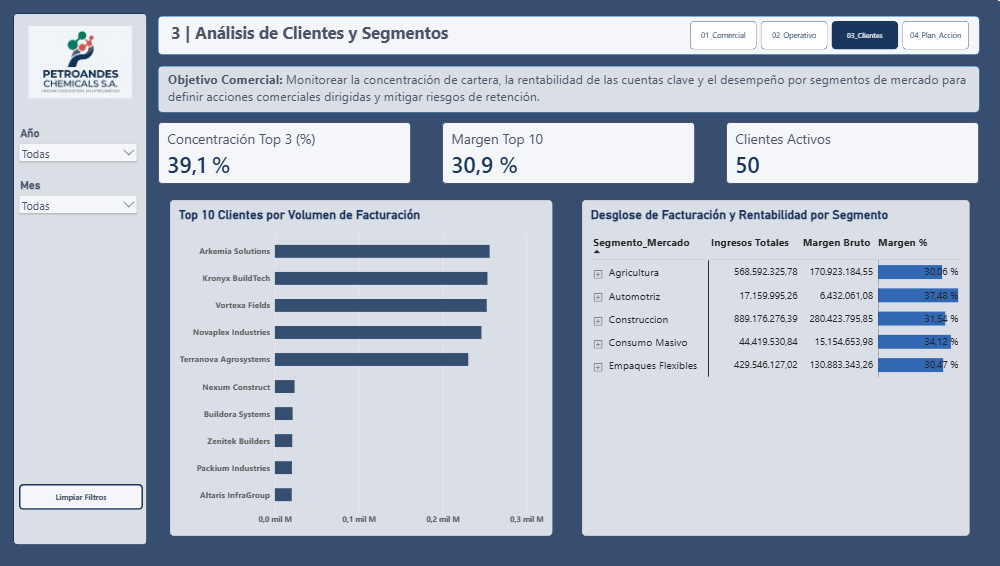

Layout of this report page (visuals, bound fields, positions):
{"tool":"powerbi","page":{"name":"03_Clientes","canvas":[1920,1080],"ordinal":3},"visuals":[{"type":"shape","box":[300,25,1590,75],"z":0},{"type":"shape","box":[300,121,1590,90],"z":0,"group":"g1"},{"type":"shape","title":"Filtros Globales","box":[20,20,260,1030],"z":1000},{"type":"textbox","box":[320,131,1560,65],"z":1000,"group":"g1"},{"type":"slicer","fields":{"Values":["Dim_Calendario.Año"]},"box":[25,240,240,80.8],"z":2000},{"type":"slicer","fields":{"Values":["Dim_Calendario.Nombre_Mes"]},"box":[25,340,240,80],"z":3000},{"type":"image","box":[20,45,260,140],"z":4000},{"type":"actionButton","title":"Limpiar Filtros","box":[30,930,240,50],"z":5000},{"type":"group","id":"g1","title":"Grupo 1","box":[300,121,1588.9,91.7],"z":6000},{"type":"textbox","box":[325,35,1510,75],"z":7000},{"type":"pageNavigator","box":[1330,35,540,55],"z":8000},{"type":"cardVisual","fields":{"Data":["_Medidas.Concentracion_Top3_%"]},"box":[300,230,490,120],"z":11000},{"type":"cardVisual","fields":{"Data":["_Medidas.Margen_Top10"]},"box":[850,230,490,120],"z":12000},{"type":"cardVisual","fields":{"Data":["_Medidas.Clientes_Activos"]},"box":[1400,230,490,120],"z":13000},{"type":"clusteredBarChart","title":"Top 10 Clientes por Volumen de Facturación","fields":{"Category":["Dim_Clientes.Nombre_Empresa"],"Y":["_Medidas.Ingresos Totales"]},"box":[323.8,381,740,650],"z":14000},{"type":"pivotTable","title":"Desglose de Facturación y Rentabilidad por Segmento","fields":{"Rows":["Dim_Clientes.Segmento_Mercado","Dim_Clientes.Nombre_Empresa"],"Values":["_Medidas.Ingresos Totales","_Medidas.Margen Bruto","_Medidas.Margen %"]},"box":[1121.4,381,750,650],"z":15000}]}

Visuals, with their boxes in screenshot pixels (x1, y1, x2, y2), scaled from the page's 1920x1080 canvas onto the 1000x566 screenshot:
shape: region(156, 13, 984, 52)
shape: region(156, 63, 984, 111)
"Filtros Globales" shape: region(10, 10, 146, 550)
textbox: region(167, 69, 979, 103)
slicer - Dim_Calendario.Año: region(13, 126, 138, 168)
slicer - Dim_Calendario.Nombre_Mes: region(13, 178, 138, 220)
image: region(10, 24, 146, 97)
"Limpiar Filtros" actionButton: region(16, 487, 141, 514)
"Grupo 1" group: region(156, 63, 984, 111)
textbox: region(169, 18, 956, 58)
pageNavigator: region(693, 18, 974, 47)
cardVisual - _Medidas.Concentracion_Top3_%: region(156, 121, 411, 183)
cardVisual - _Medidas.Margen_Top10: region(443, 121, 698, 183)
cardVisual - _Medidas.Clientes_Activos: region(729, 121, 984, 183)
"Top 10 Clientes por Volumen de Facturación" clusteredBarChart: region(169, 200, 554, 540)
"Desglose de Facturación y Rentabilidad por Segmento" pivotTable: region(584, 200, 975, 540)
